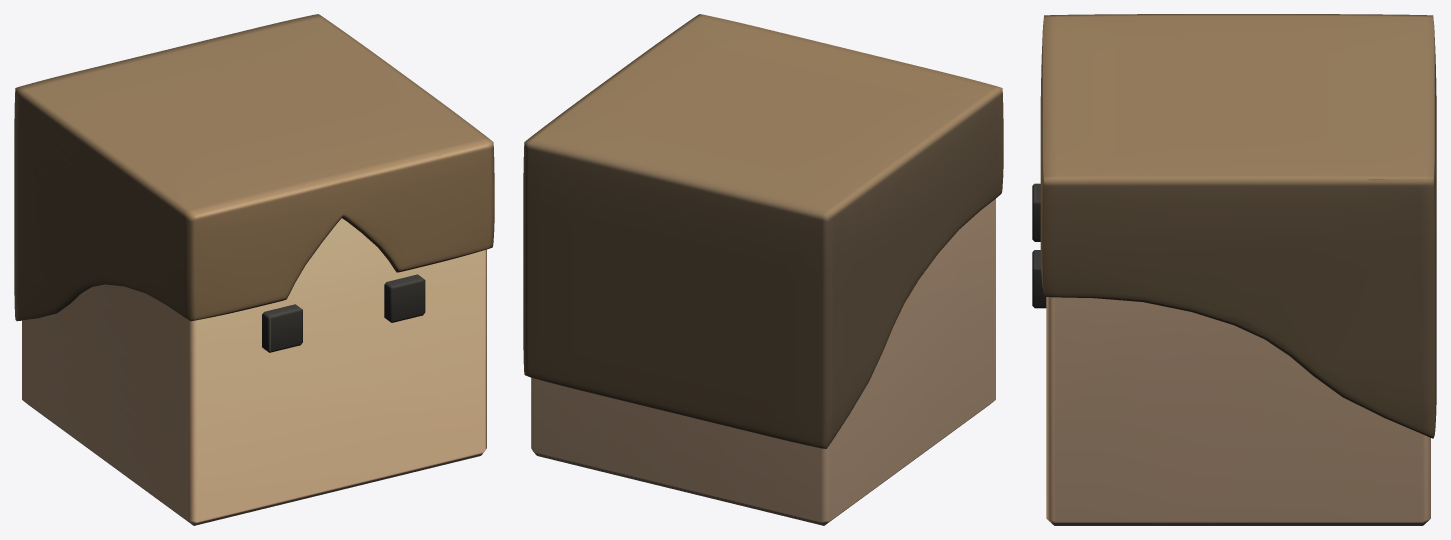
The model's file is Head_03.glb.
3 renders of one model, left to right at view 1: azimuth 30°, elevation 25°; view 2: azimuth 150°, elevation 25°; view 3: azimuth 270°, elevation 25°, orthographic. The views are drawn at different scales.
Size of the model in its own units: 1.03 by 1.01 by 1.05.
1 material, 1 textured.
